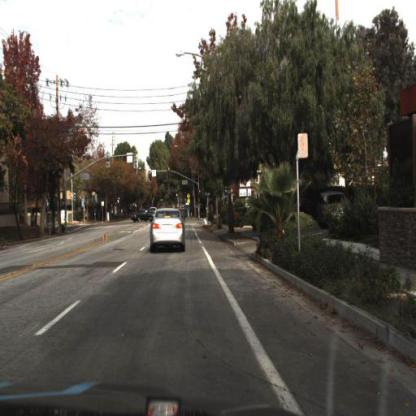car: (147, 202, 194, 259), (314, 188, 357, 219), (130, 205, 161, 228)
trafficLight-Red: (197, 183, 205, 204), (165, 162, 172, 181), (146, 164, 153, 182)
